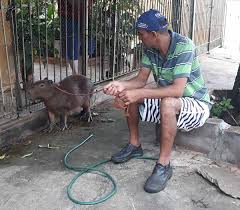capivara: (26, 74, 96, 133)
